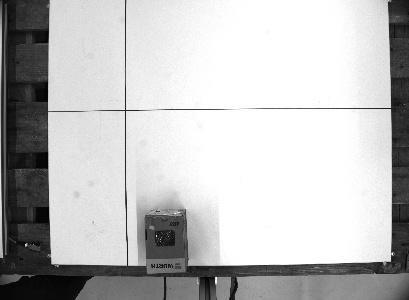b4: (141, 206, 188, 275)
